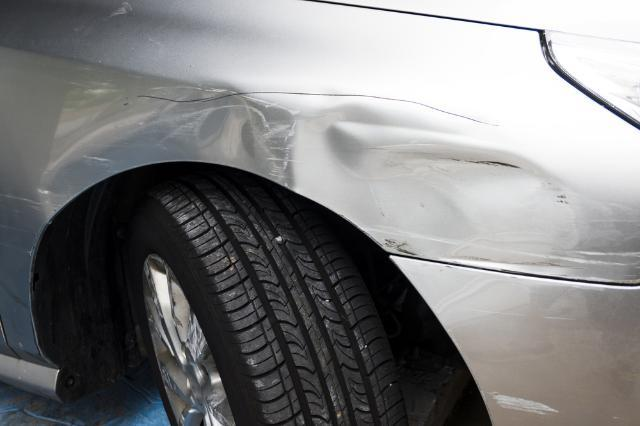dent: (295, 105, 537, 254), (40, 90, 287, 219)
scratch: (411, 175, 640, 287), (250, 96, 308, 190), (492, 391, 568, 420)
